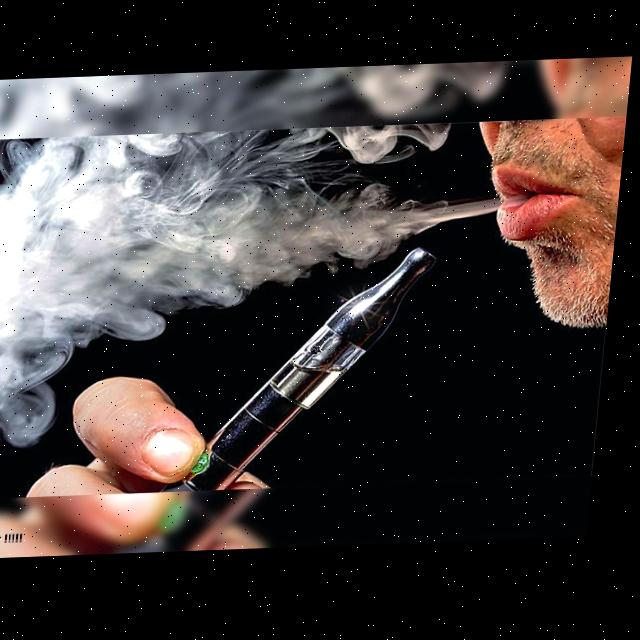vape: (183, 249, 441, 494)
